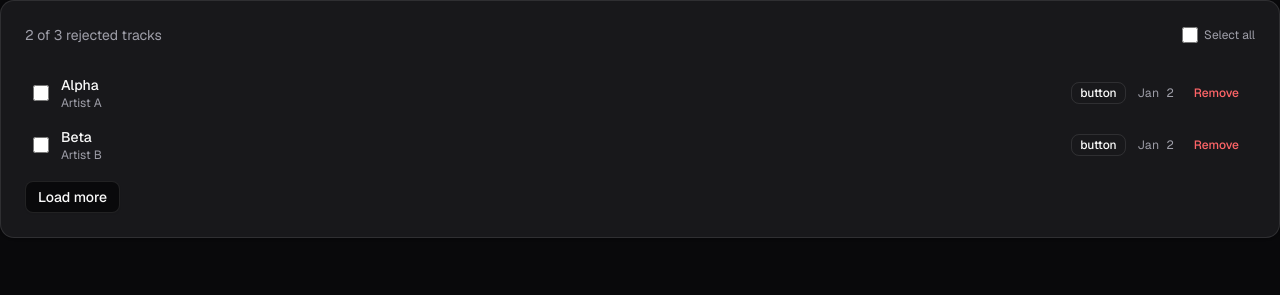
Scenario: DislikesManager › keeps the rows and shows the error when a bulk removal fails
The width and height of the screenshot is (1280, 295).
Expected: the text "Alpha" is shown, [61, 76, 99, 94]
Click the checkbox named "Select Alpha by Artist A": x=41, y=93 [33, 85, 49, 101]
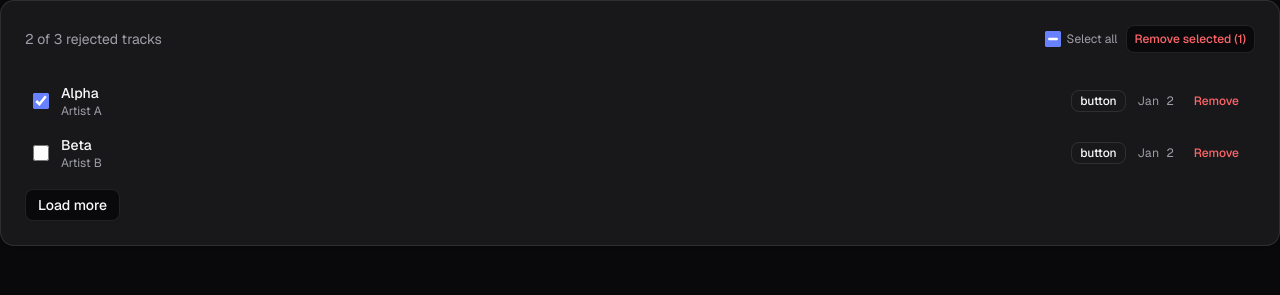
Click the button "Remove selected (1)": x=1190, y=39 [1126, 25, 1255, 53]
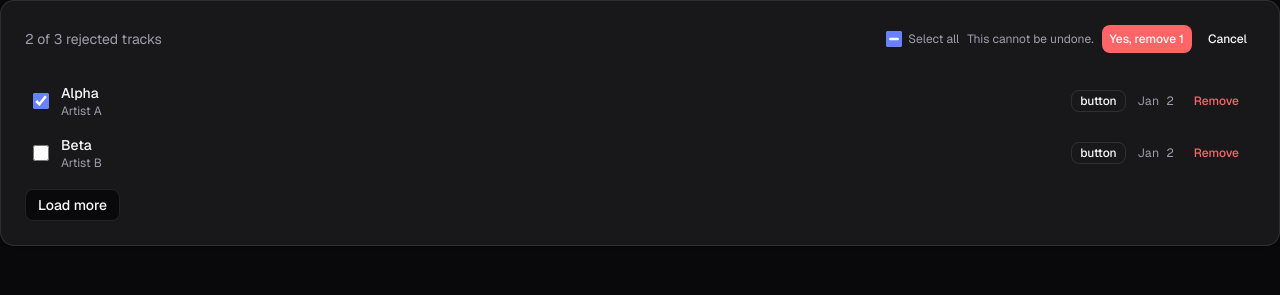
Click the button "Yes, remove 1": x=1147, y=39 [1102, 25, 1192, 53]
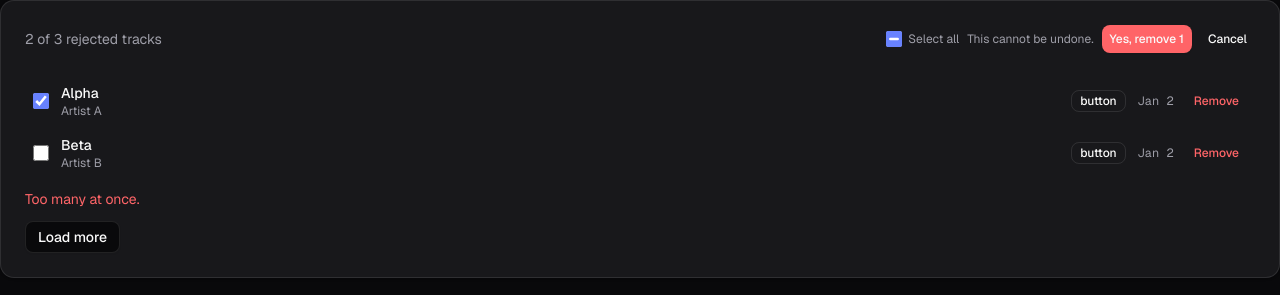
Expected: the text "Alpha" is shown, [61, 84, 99, 102]
Expected: the message reads "Too many at once.", [25, 190, 140, 208]
